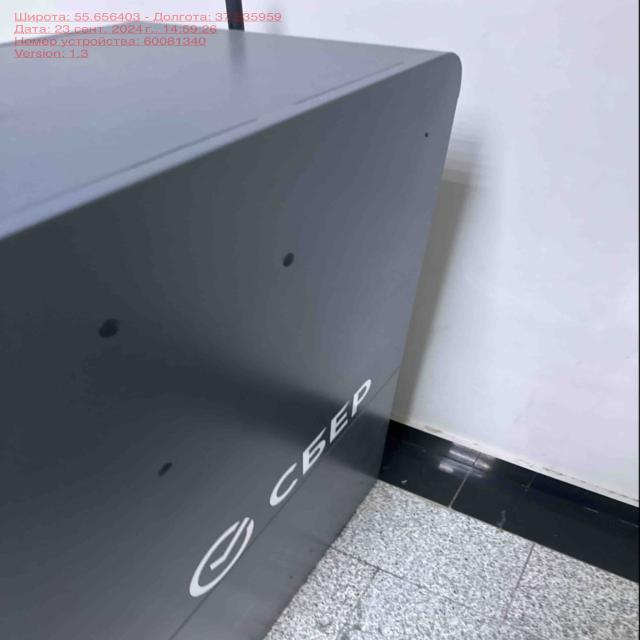bank: (0, 17, 457, 640)
